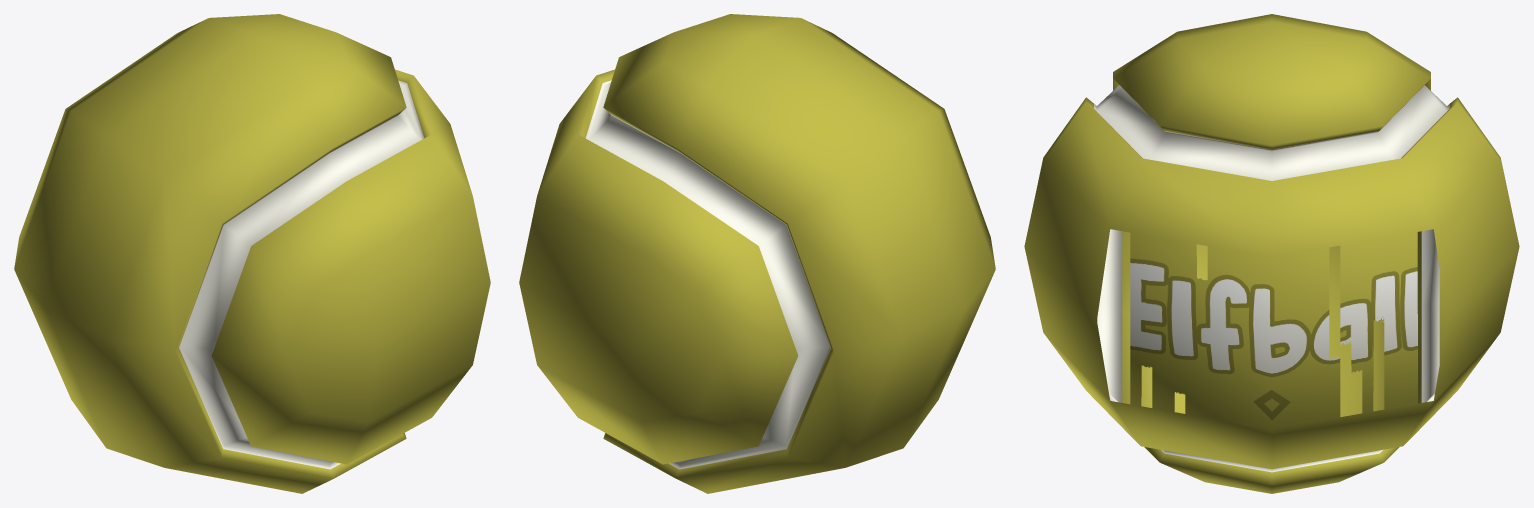
The model's file is elfball.fbx.
3 views of the same model, side by side, from view 1: azimuth 30°, elevation 25°; view 2: azimuth 150°, elevation 25°; view 3: azimuth 270°, elevation 25° (orthographic).
Visible parts, largest first — view 1: Sphere.008; view 2: Sphere.008; view 3: Sphere.008.
Part boxes in pixels (left/top/right/bottom): Sphere.008: left=14, top=14, right=490, bottom=493; Sphere.008: left=519, top=14, right=995, bottom=493; Sphere.008: left=1024, top=14, right=1519, bottom=493.
Size of the model in its own units: 915 by 915 by 915.
